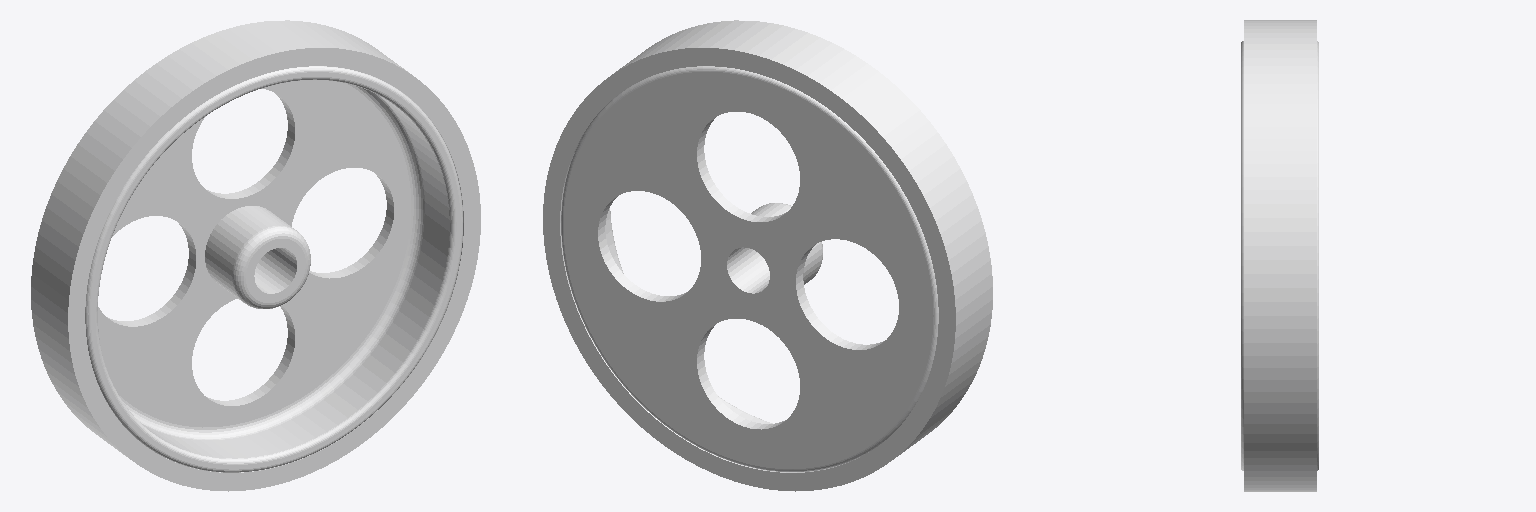
URDF robot description (pico3):
<?xml version="1.0" ?>
<!-- =================================================================================== -->
<!-- |    This document was autogenerated by xacro from pico3.xacro                    | -->
<!-- |    EDITING THIS FILE BY HAND IS NOT RECOMMENDED                                 | -->
<!-- =================================================================================== -->
<robot name="pico3">
  <material name="silver_default">
    <color rgba="0.700 0.700 0.700 1.000"/>
  </material>
  <material name="_">
    <color rgba="0.9607843137254902 0.9607843137254902 0.9647058823529412 1.0"/>
  </material>
  <transmission name="rev18_tran">
    <type>transmission_interface/SimpleTransmission</type>
    <joint name="rev18">
      <hardwareInterface>hardware_interface/EffortJointInterface</hardwareInterface>
    </joint>
    <actuator name="rev18_actr">
      <hardwareInterface>hardware_interface/EffortJointInterface</hardwareInterface>
      <mechanicalReduction>1</mechanicalReduction>
    </actuator>
  </transmission>
  <transmission name="rev19_tran">
    <type>transmission_interface/SimpleTransmission</type>
    <joint name="rev19">
      <hardwareInterface>hardware_interface/EffortJointInterface</hardwareInterface>
    </joint>
    <actuator name="rev19_actr">
      <hardwareInterface>hardware_interface/EffortJointInterface</hardwareInterface>
      <mechanicalReduction>1</mechanicalReduction>
    </actuator>
  </transmission>
  <link name="base_link">
    <inertial>
      <origin rpy="0 0 0" xyz="-0.01732832550573724 -0.028076387363741385 0.008428795579960836"/>
      <mass value="0.25793695054434457"/>
      <inertia ixx="0.000109" ixy="-1e-06" ixz="-0.0" iyy="0.000115" iyz="0.0" izz="0.000141"/>
    </inertial>
    <visual>
      <origin rpy="0 0 0" xyz="0 0 0"/>
      <geometry>
        <mesh filename="package://pico3_description/meshes/base_link.stl" scale="0.001 0.001 0.001"/>
      </geometry>
      <material name="_"/>
    </visual>
    <collision>
      <origin rpy="0 0 0" xyz="0 0 0"/>
      <geometry>
        <mesh filename="package://pico3_description/meshes/base_link.stl" scale="0.001 0.001 0.001"/>
      </geometry>
    </collision>
  </link>
  <link name="44mm_wheel_v1_1_1_1">
    <inertial>
      <origin rpy="0 0 0" xyz="2.0004102618792485e-05 0.004777000743186696 2.4180340919379914e-05"/>
      <mass value="0.014367207321355414"/>
      <inertia ixx="3e-06" ixy="0.0" ixz="0.0" iyy="6e-06" iyz="0.0" izz="3e-06"/>
    </inertial>
    <visual>
      <origin rpy="0 0 0" xyz="0.016588 0.06586 -0.010064"/>
      <geometry>
        <mesh filename="package://pico3_description/meshes/44mm_wheel_v1_1_1_1.stl" scale="0.001 0.001 0.001"/>
      </geometry>
      <material name="_"/>
    </visual>
    <collision>
      <origin rpy="0 0 0" xyz="0.016588 0.06586 -0.010064"/>
      <geometry>
        <mesh filename="package://pico3_description/meshes/44mm_wheel_v1_1_1_1.stl" scale="0.001 0.001 0.001"/>
      </geometry>
    </collision>
  </link>
  <link name="44mm_wheel_v1__1__1_1_1">
    <inertial>
      <origin rpy="0 0 0" xyz="0.00011503190831341908 -0.004751453878412586 1.502109863796633e-05"/>
      <mass value="0.014316395337638727"/>
      <inertia ixx="3e-06" ixy="-0.0" ixz="0.0" iyy="6e-06" iyz="-0.0" izz="3e-06"/>
    </inertial>
    <visual>
      <origin rpy="0 0 0" xyz="0.016639 -0.009495 -0.010108"/>
      <geometry>
        <mesh filename="package://pico3_description/meshes/44mm_wheel_v1__1__1_1_1.stl" scale="0.001 0.001 0.001"/>
      </geometry>
      <material name="_"/>
    </visual>
    <collision>
      <origin rpy="0 0 0" xyz="0.016639 -0.009495 -0.010108"/>
      <geometry>
        <mesh filename="package://pico3_description/meshes/44mm_wheel_v1__1__1_1_1.stl" scale="0.001 0.001 0.001"/>
      </geometry>
    </collision>
  </link>
  <joint name="rev18" type="continuous">
    <origin rpy="0 0 0" xyz="-0.016588 -0.06586 0.010064"/>
    <parent link="base_link"/>
    <child link="44mm_wheel_v1_1_1_1"/>
    <axis xyz="0.0 -1.0 -0.0"/>
  </joint>
  <joint name="rev19" type="continuous">
    <origin rpy="0 0 0" xyz="-0.016639 0.009495 0.010108"/>
    <parent link="base_link"/>
    <child link="44mm_wheel_v1__1__1_1_1"/>
    <axis xyz="0.0 1.0 0.0"/>
  </joint>
</robot>

--- What the picture shows (computed from the rendered views, not written in the file) ---
Views: 3 orthographic renders of the robot side by side, from view 1: azimuth 30°, elevation 25°; view 2: azimuth 150°, elevation 25°; view 3: azimuth 270°, elevation 25°.
Model pico3 with 3 links and 2 joints (2 continuous), rooted at base_link, posed all joints at 0.
Links seen in each view (by area): view 1: 44mm_wheel_v1_1_1_1; view 2: 44mm_wheel_v1_1_1_1; view 3: 44mm_wheel_v1_1_1_1.
Link boxes in pixels (box(x1,y1,x2,y2)): 44mm_wheel_v1_1_1_1: box(31, 20, 480, 491); 44mm_wheel_v1_1_1_1: box(543, 20, 992, 491); 44mm_wheel_v1_1_1_1: box(1241, 20, 1318, 491).
Bounding box of the posed robot: 0.048 × 0.008 × 0.048 m (x, y, z).
Meshes: 3 distinct files referenced, 1 mesh visuals loaded (1 binary STL); not drawn: 2 (reference not matched to a file when rendering).